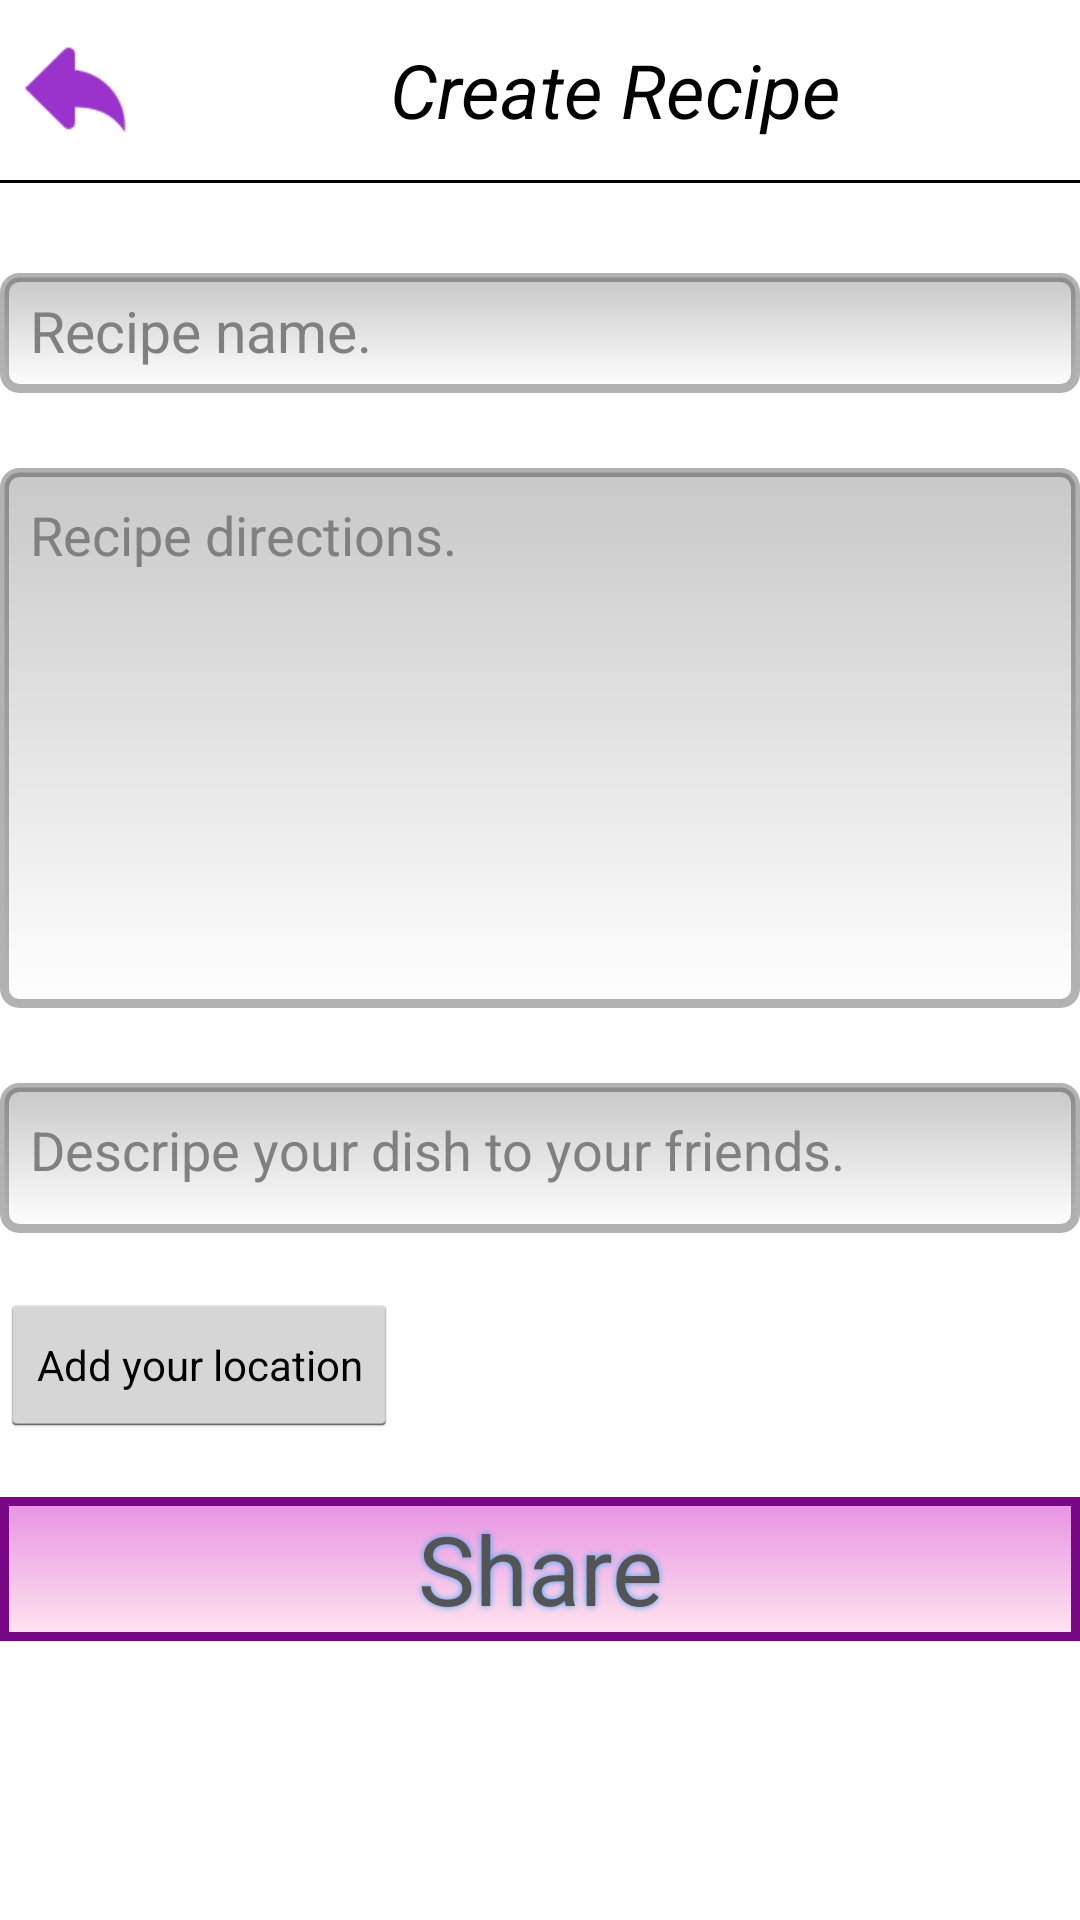

Icons on this 1080 x 1920 Android screen, each with the point to tap as [x,y]:
backbutton: [75,89]
